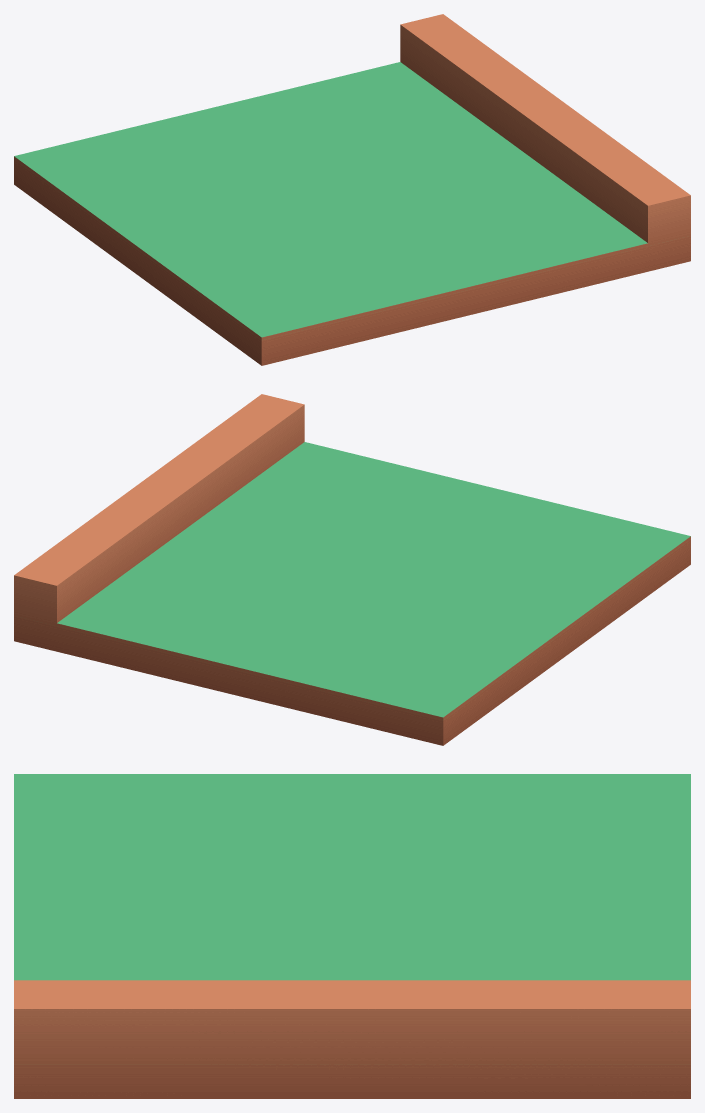
Rendered from side.glb.
3 views of the same model, one above another, from view 1: azimuth 30°, elevation 25°; view 2: azimuth 150°, elevation 25°; view 3: azimuth 270°, elevation 25° (orthographic). The views are drawn at different scales.
Visible parts, largest first — view 1: side; view 2: side; view 3: side.
Boxes of the visible parts, <box> form: side: <box>14,14,690,365</box>; side: <box>14,394,690,745</box>; side: <box>14,774,690,1098</box>.
Size of the model in its own units: 0.9999 by 0.1467 by 0.9999.
Materials: 1 (1 with a texture image).
